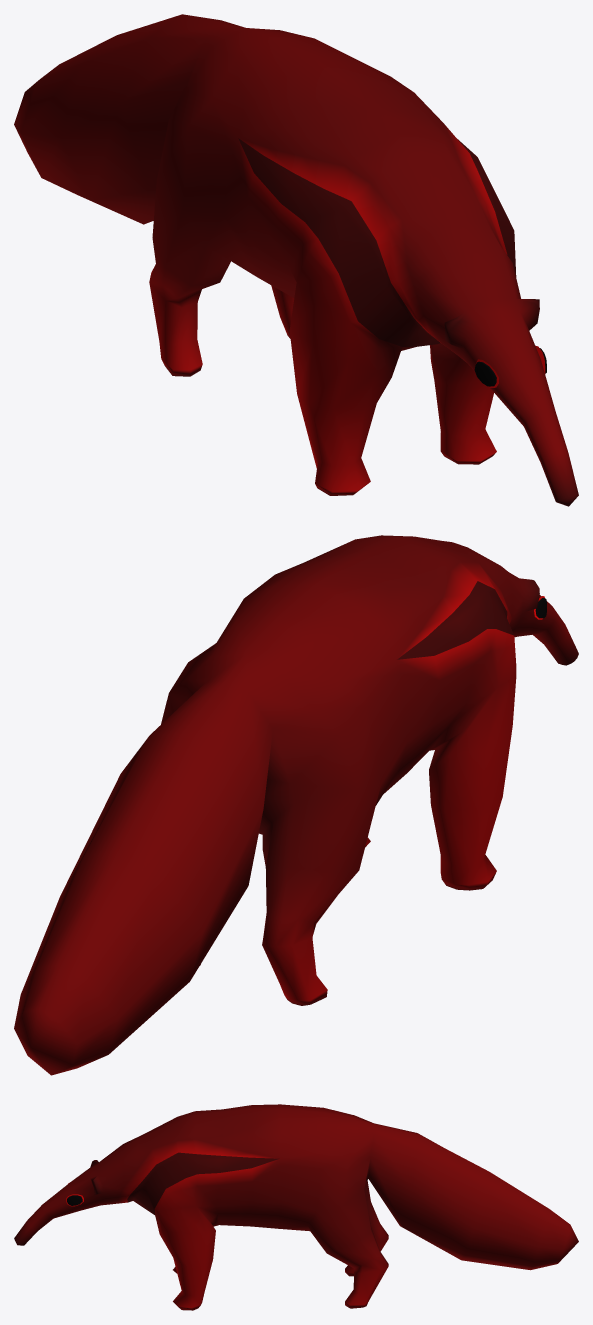
Rendered from Animals_Anteater.fbx.
3 views of the same model, one above another, from view 1: azimuth 30°, elevation 25°; view 2: azimuth 150°, elevation 25°; view 3: azimuth 270°, elevation 25° (orthographic). The views are drawn at different scales.
Parts seen in each view (by area): view 1: base; view 2: base; view 3: base.
Part boxes in pixels (box(x1,y1,x2,y2)): base: box(14, 14, 578, 506); base: box(14, 535, 578, 1075); base: box(14, 1104, 578, 1310).
Bounding box in the file's own units: 40.03 × 65.54 × 186.
